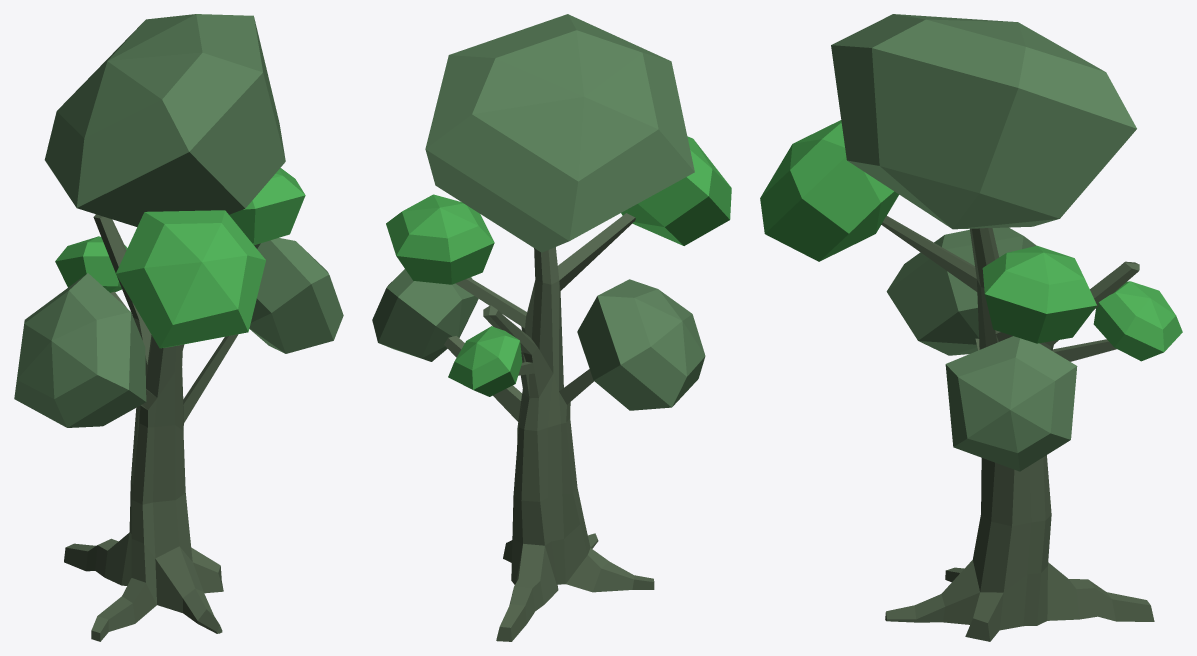
File: bush1.FBX
3 renders of one model, left to right at view 1: azimuth 30°, elevation 25°; view 2: azimuth 150°, elevation 25°; view 3: azimuth 270°, elevation 25°, orthographic. The views are drawn at different scales.
Visible parts, largest first — view 1: tree1_2; view 2: tree1_2; view 3: tree1_2.
Boxes of the visible parts, x1,y1,x2,y2 form: tree1_2: (14,14,343,641); tree1_2: (372,14,731,641); tree1_2: (760,14,1182,641).
Bounding box in the file's own units: 400 × 691 × 432.
